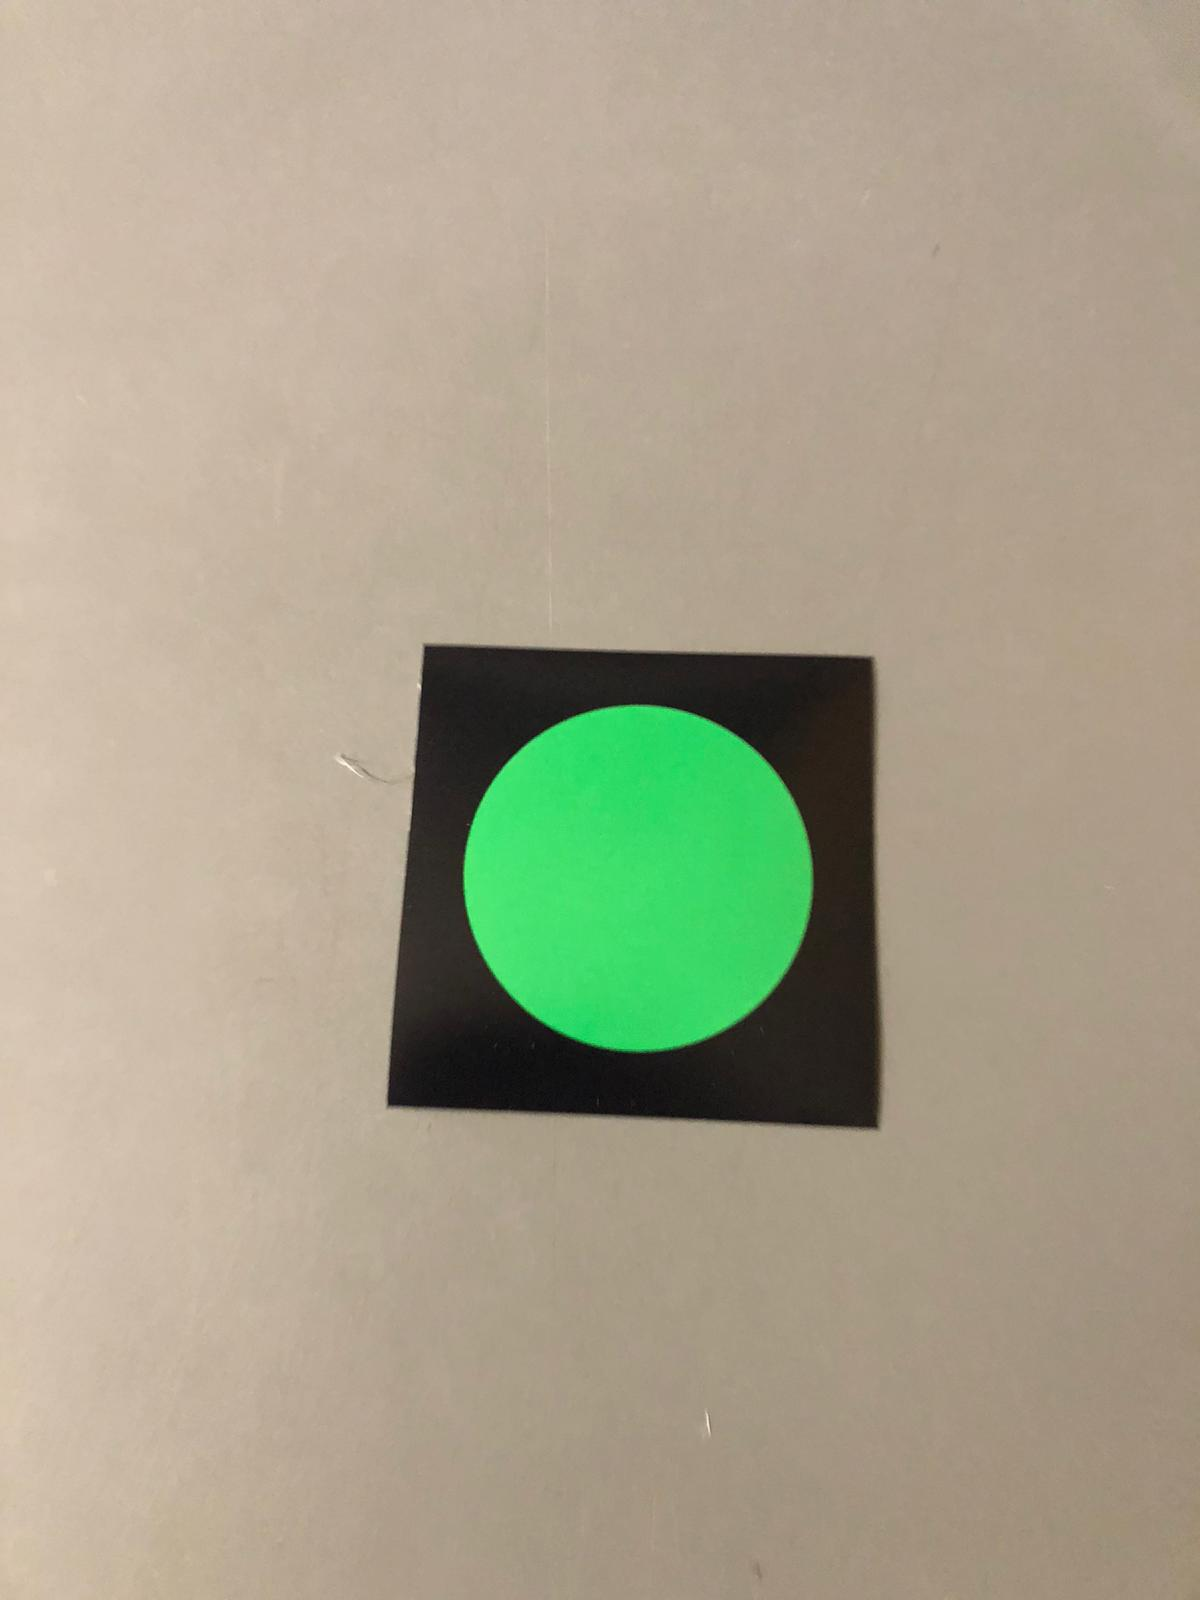Circle: (427, 660, 845, 1101)
